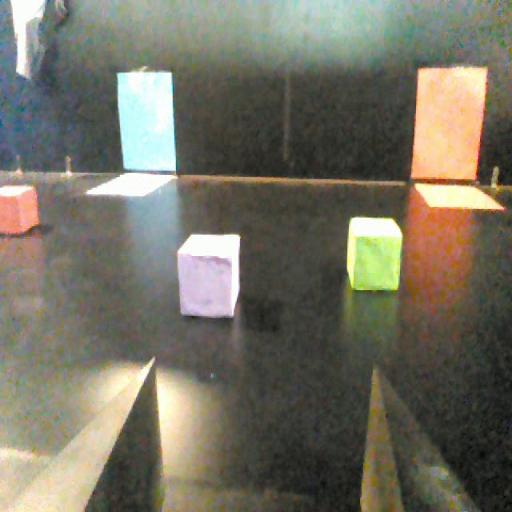cube: (170, 228, 245, 329), (344, 214, 402, 297), (0, 180, 39, 241)
